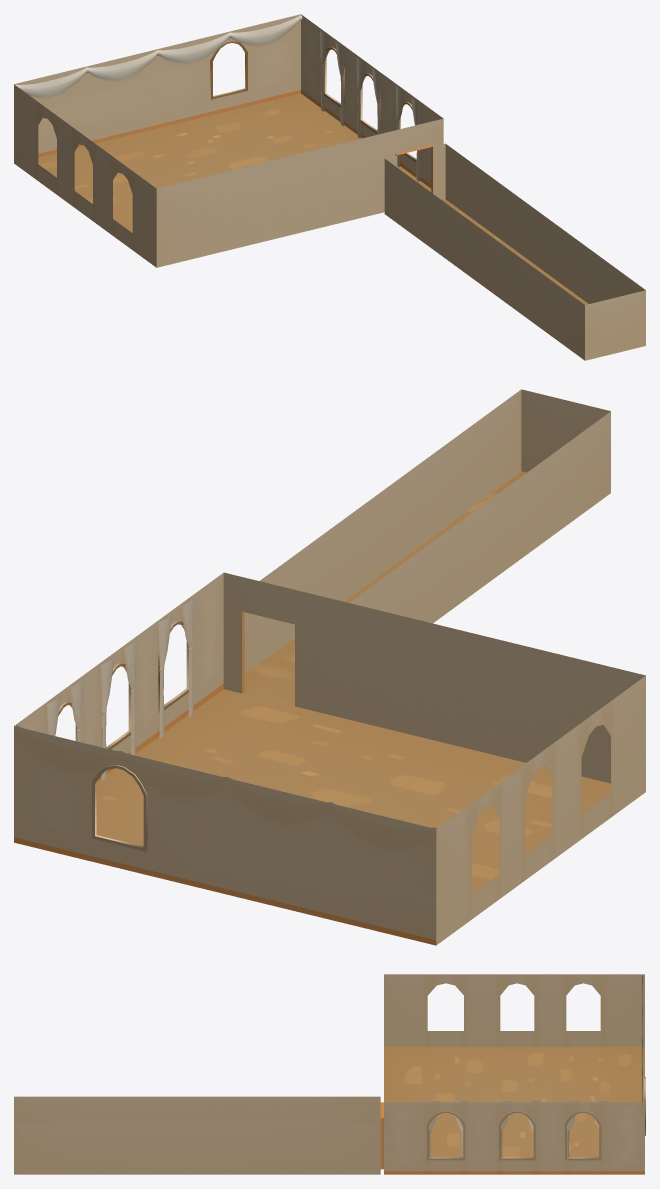
Rendered from SAD_art_loc_mdl_weddingRoom.fbx.
3 views of the same model, one above another, from view 1: azimuth 30°, elevation 25°; view 2: azimuth 150°, elevation 25°; view 3: azimuth 270°, elevation 25° (orthographic). The views are drawn at different scales.
Parts seen in each view (by area): view 1: wallsAndFloor_geo, room_accesories_geo; view 2: wallsAndFloor_geo, room_accesories_geo; view 3: wallsAndFloor_geo, room_accesories_geo.
Boxes of the visible parts, left/top/right/bottom form: wallsAndFloor_geo: left=14, top=14, right=645, bottom=360; room_accesories_geo: left=15, top=15, right=420, bottom=181; wallsAndFloor_geo: left=14, top=389, right=645, bottom=945; room_accesories_geo: left=16, top=597, right=436, bottom=851; wallsAndFloor_geo: left=14, top=974, right=644, bottom=1174; room_accesories_geo: left=423, top=975, right=645, bottom=1160.
Size of the model in its own units: 146 by 38.48 by 304.
1 material, 1 textured.
